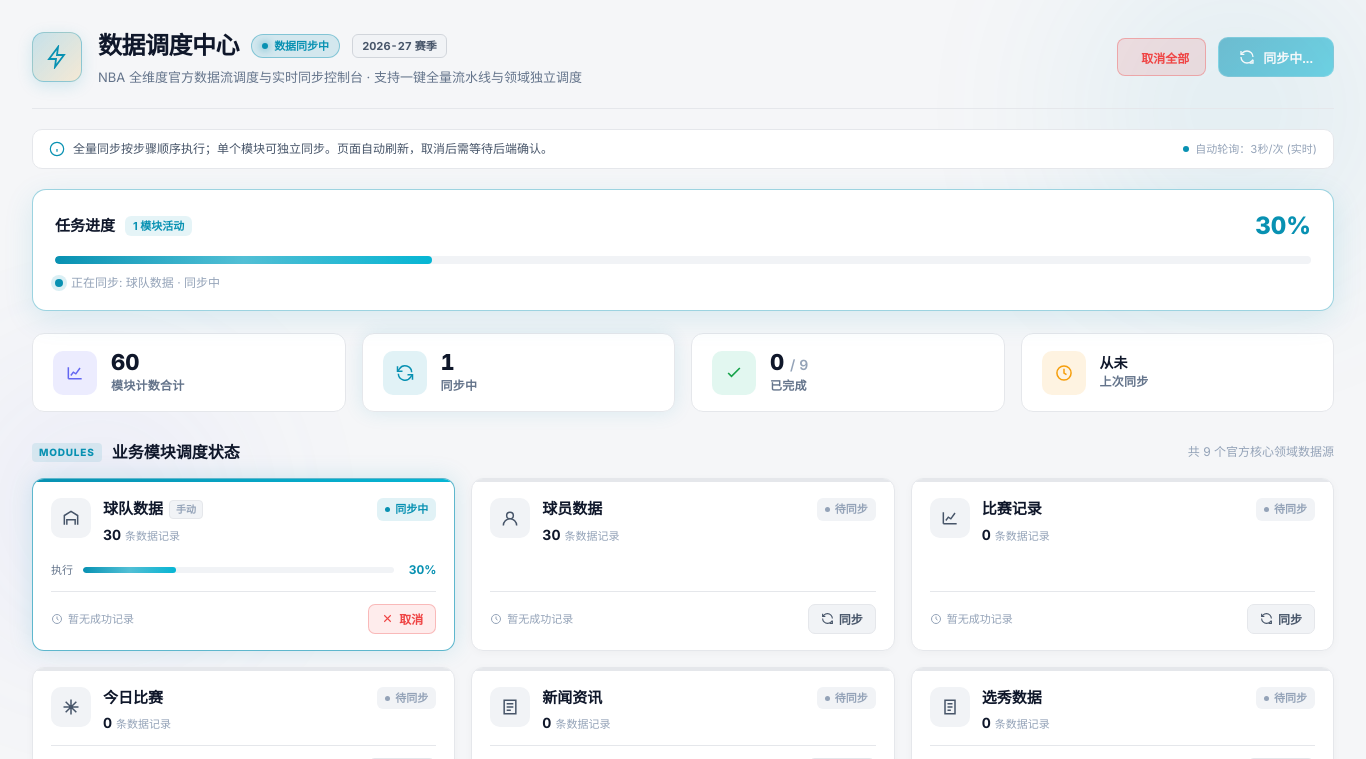
Test case: DataSyncView task lifecycle › cancels each job once and applies terminal responses when cancellation was too late
Click the button with class "btn-cancel". click: point(1162, 57)
box: [1117,38,1206,76]
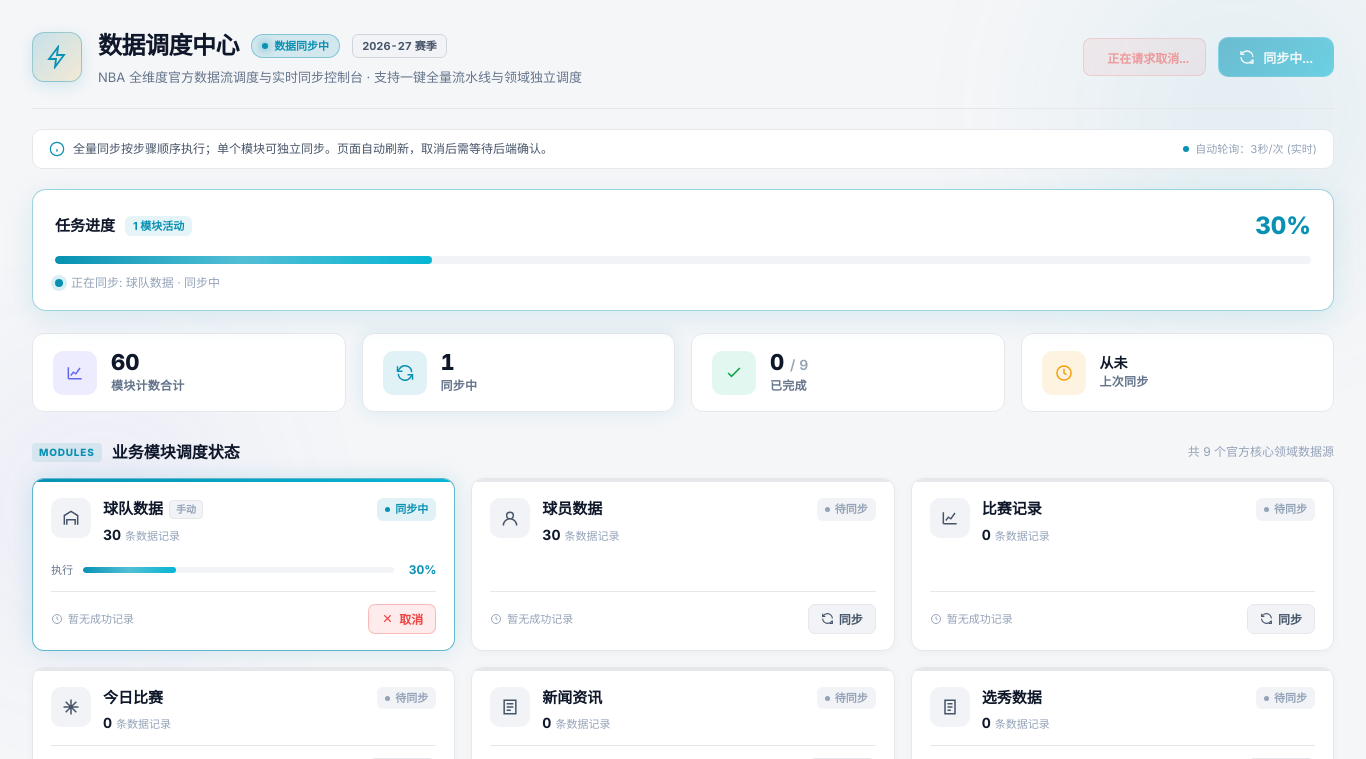
Click the button with class "btn-cancel". click: point(1145, 57)
box: [1083,38,1206,76]
(page scrolled)
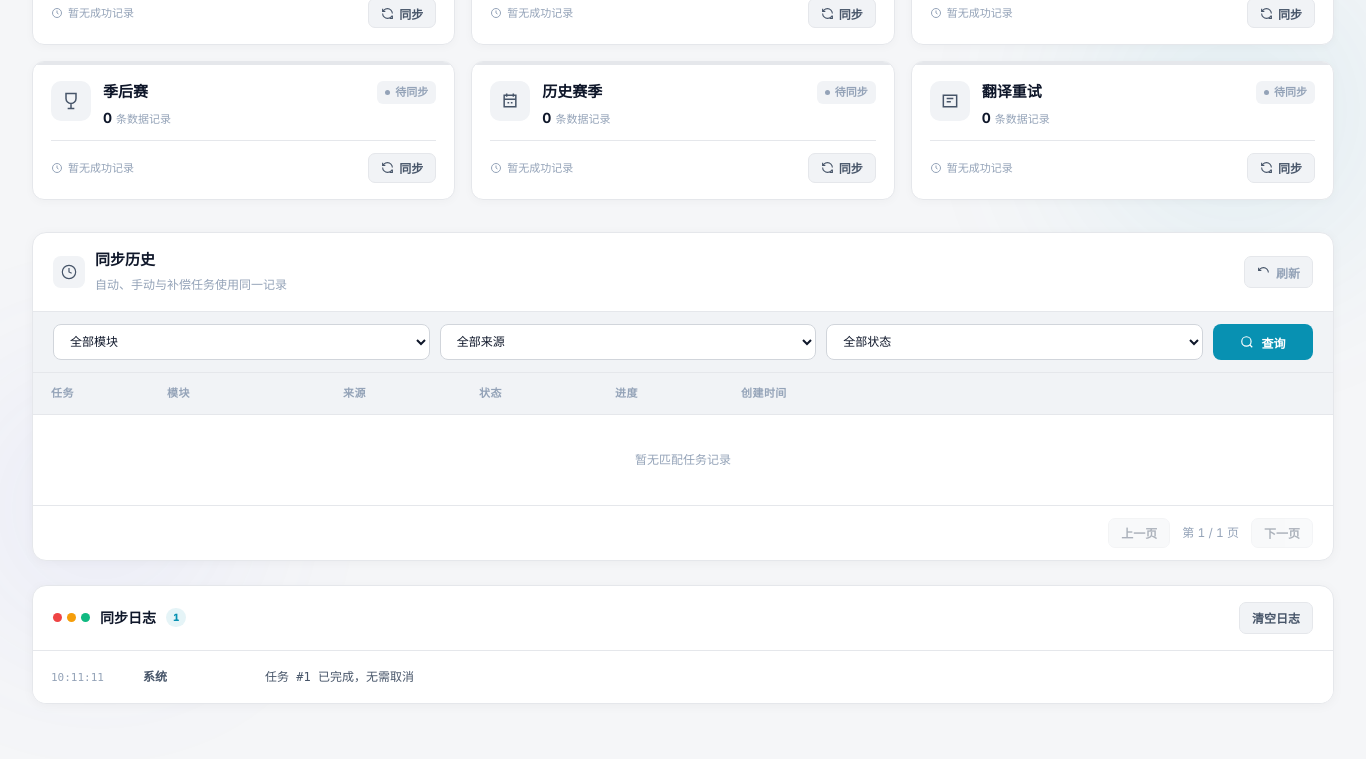
Now the element with class "log-panel" shows "无需取消", box [265,670,414,684]
